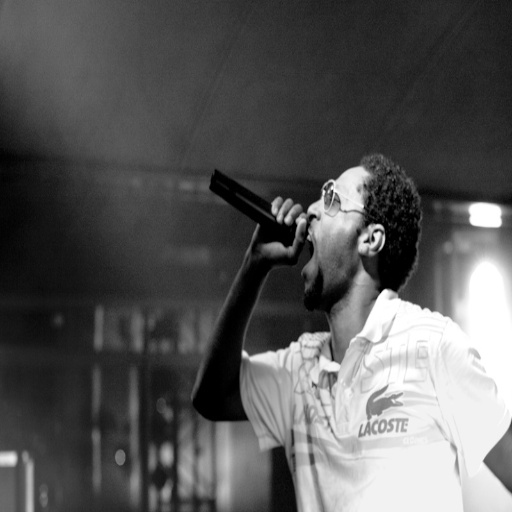hand: (249, 194, 311, 271)
